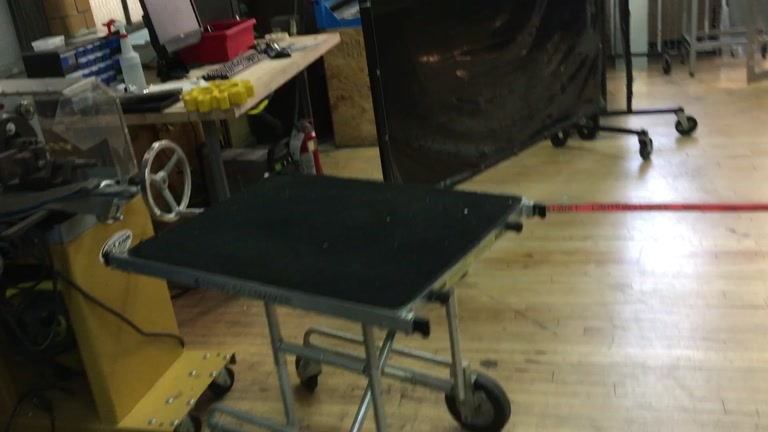gear: (181, 76, 254, 113)
